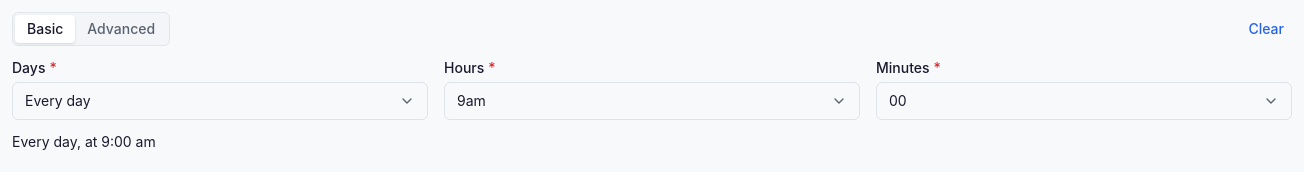
Test case: CronScheduleEditor › clears the expression
Click the button with aria-label "Clear Cron Expression": (1266, 29) [1240,15,1292,43]
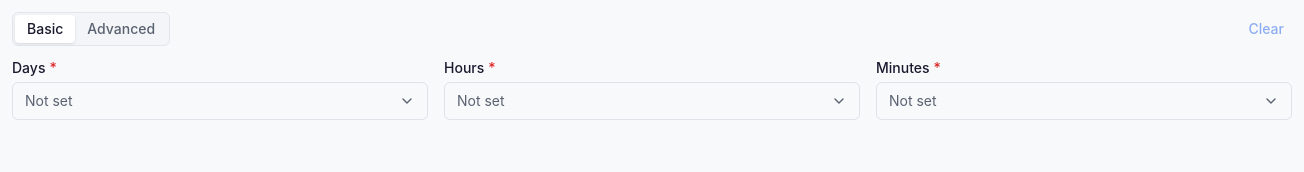
Now the button named "Days" reads "Not set", box [12,82,428,120]
Now the button with aria-label "Clear Cron Expression" is disabled, box [1240,15,1292,43]
